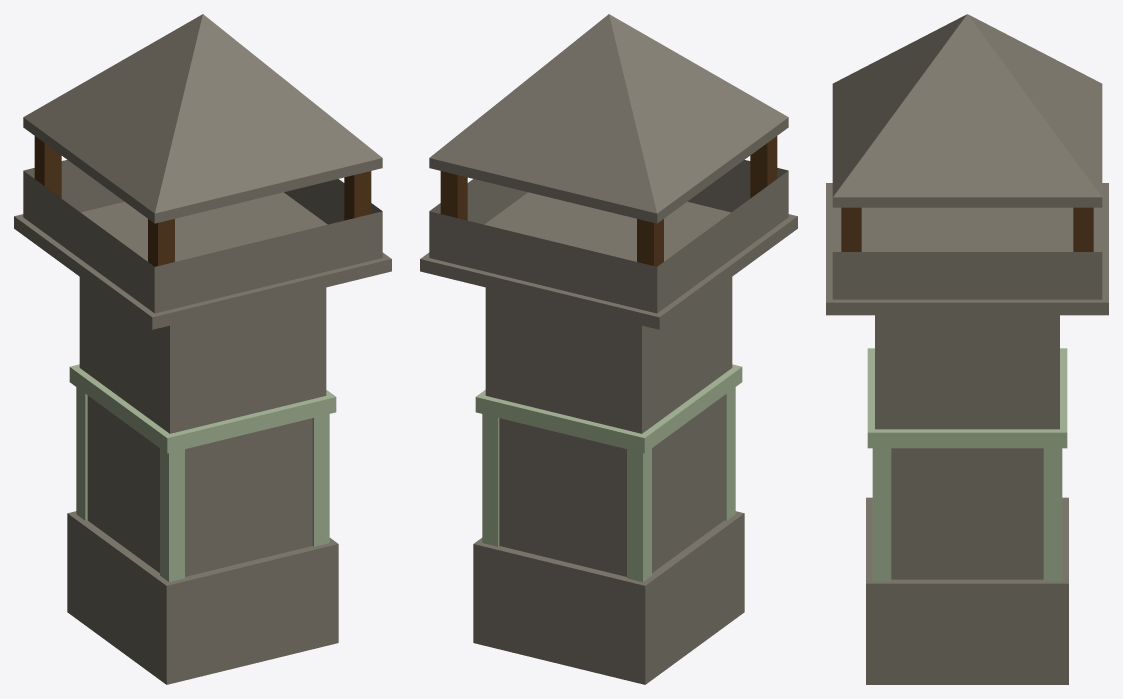
The model's file is ArcherTower2.glb.
3 renders of one model, left to right at view 1: azimuth 30°, elevation 25°; view 2: azimuth 150°, elevation 25°; view 3: azimuth 270°, elevation 25°, orthographic. The views are drawn at different scales.
Parts seen in each view (by area): view 1: Main Tower Body, Foundation Wood Pillow, Foundation Wood Railing, Lookout Pillow; view 2: Main Tower Body, Foundation Wood Pillow, Foundation Wood Railing, Lookout Pillow; view 3: Main Tower Body, Foundation Wood Pillow, Foundation Wood Railing, Lookout Pillow.
Part boxes in pixels (bbox=[...]): Main Tower Body: bbox=[14, 14, 391, 684]; Foundation Wood Pillow: bbox=[76, 387, 329, 581]; Foundation Wood Railing: bbox=[69, 364, 336, 453]; Lookout Pillow: bbox=[34, 136, 371, 266]; Main Tower Body: bbox=[420, 14, 797, 684]; Foundation Wood Pillow: bbox=[482, 387, 735, 581]; Foundation Wood Railing: bbox=[475, 364, 742, 453]; Lookout Pillow: bbox=[440, 136, 777, 266]; Main Tower Body: bbox=[826, 14, 1108, 684]; Foundation Wood Pillow: bbox=[872, 448, 1062, 580]; Foundation Wood Railing: bbox=[867, 348, 1067, 448]; Lookout Pillow: bbox=[841, 207, 1093, 251].
Bounding box in the file's own units: 11.24 × 27.53 × 11.24.
4 materials, 4 textured.
